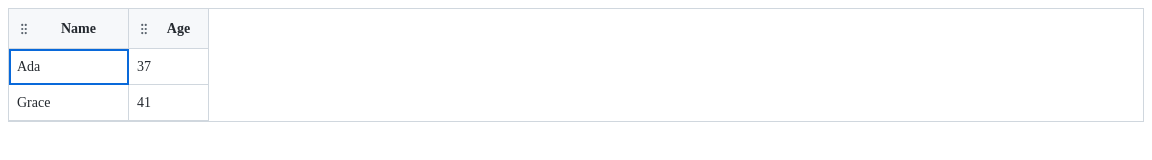
Test case: GenDataGrid interaction contract › starts default cell editing on double click
This screenshot has width=1152, height=160.
Double-click the cell "Ada".
double_click(69, 67)  # box 9,49 -> 129,85
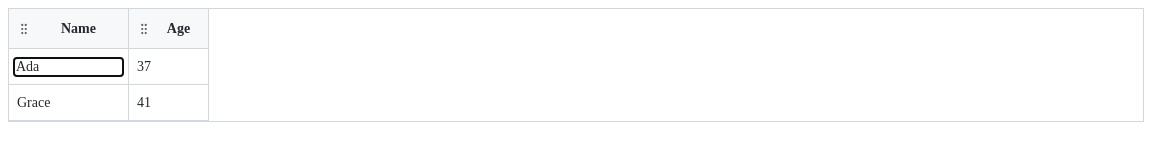
Now the field named "name editor" holds "Ada", box 13,56 -> 124,76
